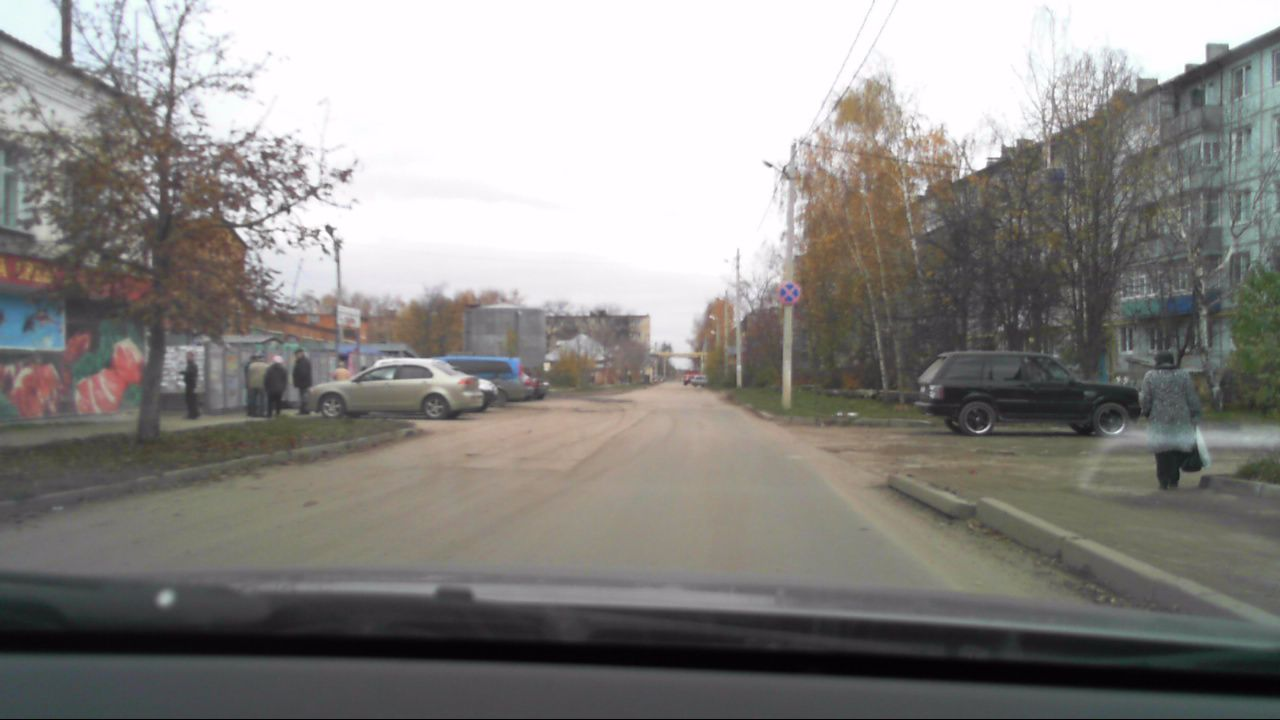No Parking: (777, 279, 801, 304)
